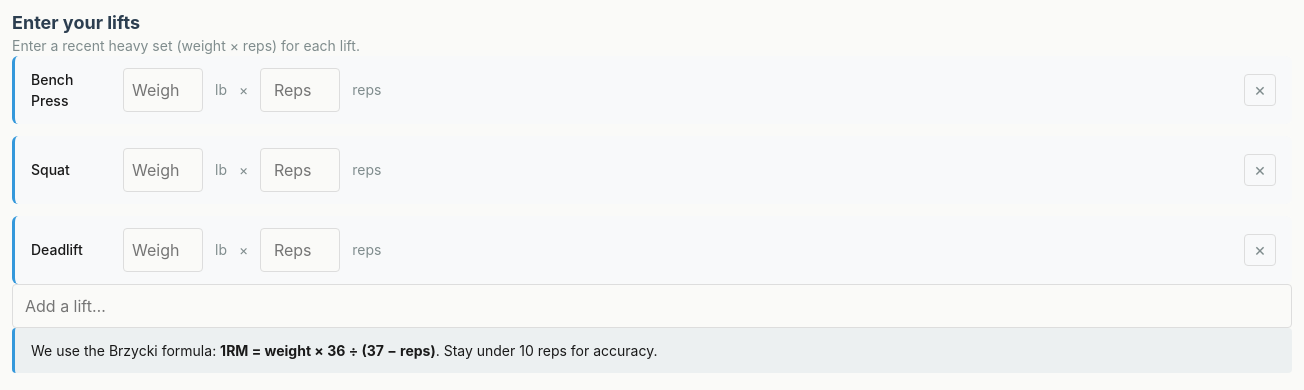
Test: StepLifts — remove a lift › drops a row when its remove button is clicked
This screenshot has width=1304, height=390.
Check: the text "Deadlift" is shown, box [31,241,83,258]
Click the button named "Remove Deadlift" at (1260, 250), box [1244,234,1276,266]
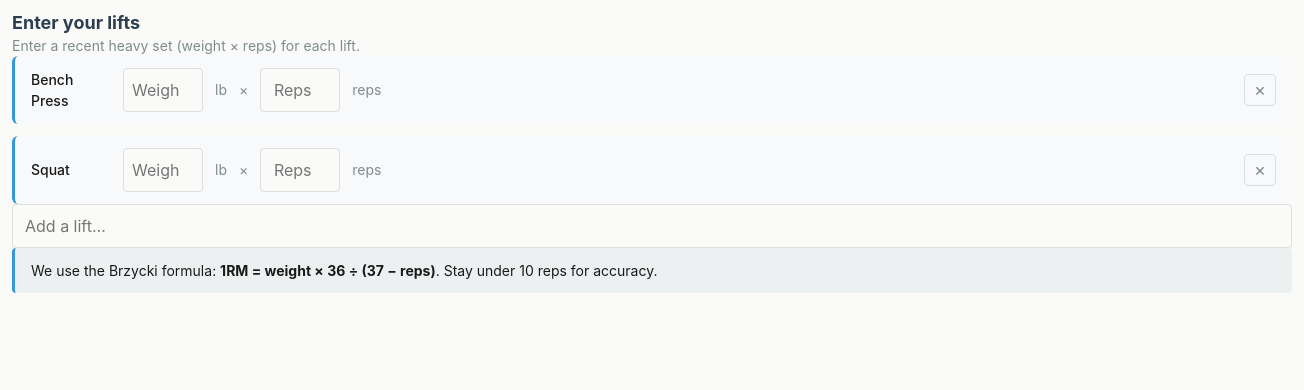
Check: the text "Deadlift" is gone
